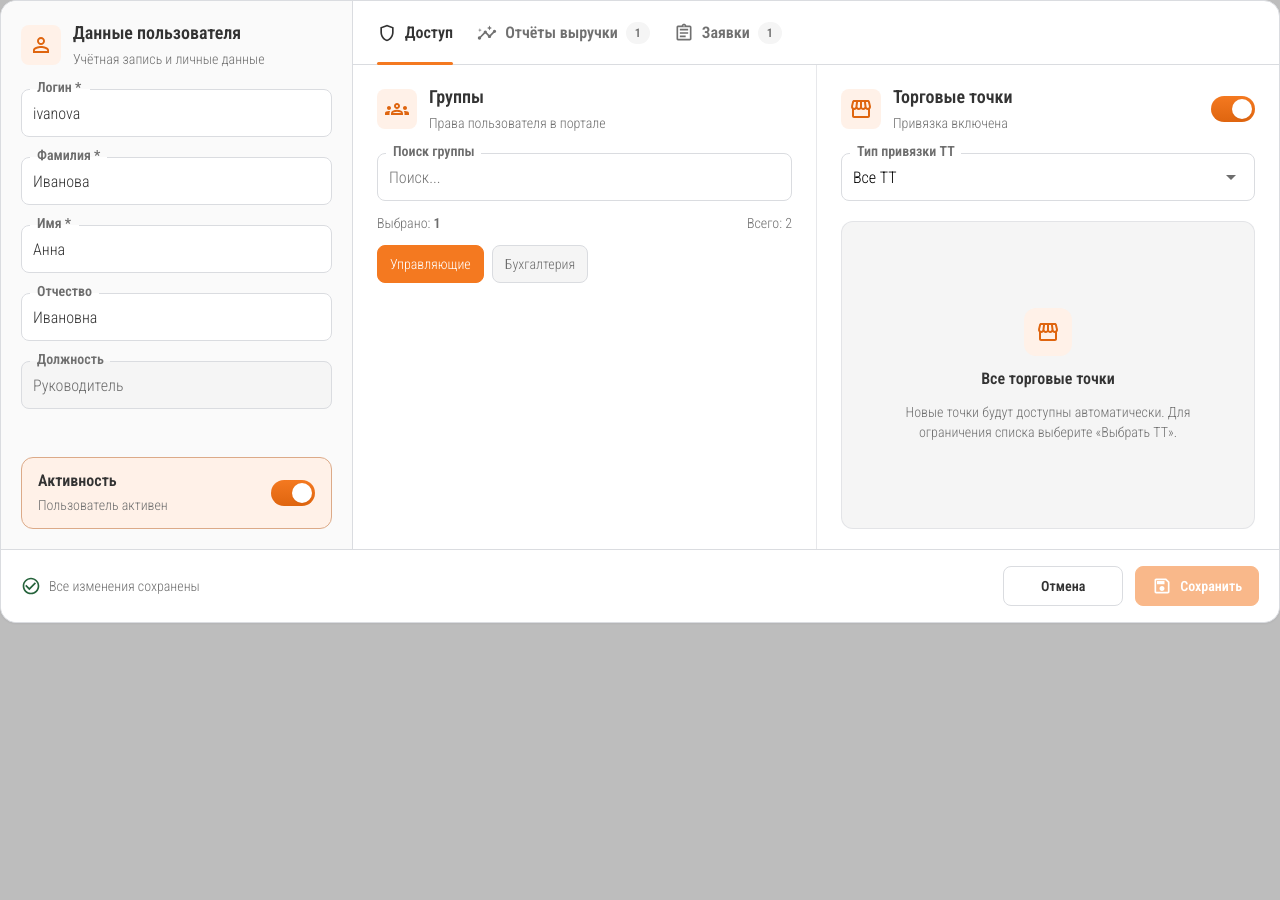
Test: UserEdit › closes a bid only after a successful response and retains unsaved form data
This screenshot has width=1280, height=900.
Expected: the field showing "ivanova" is shown, [21,89,332,137]
Replace the text in the field labelled "Имя *" with "Екатерина". click: (176, 249)
box: [21,225,332,273]
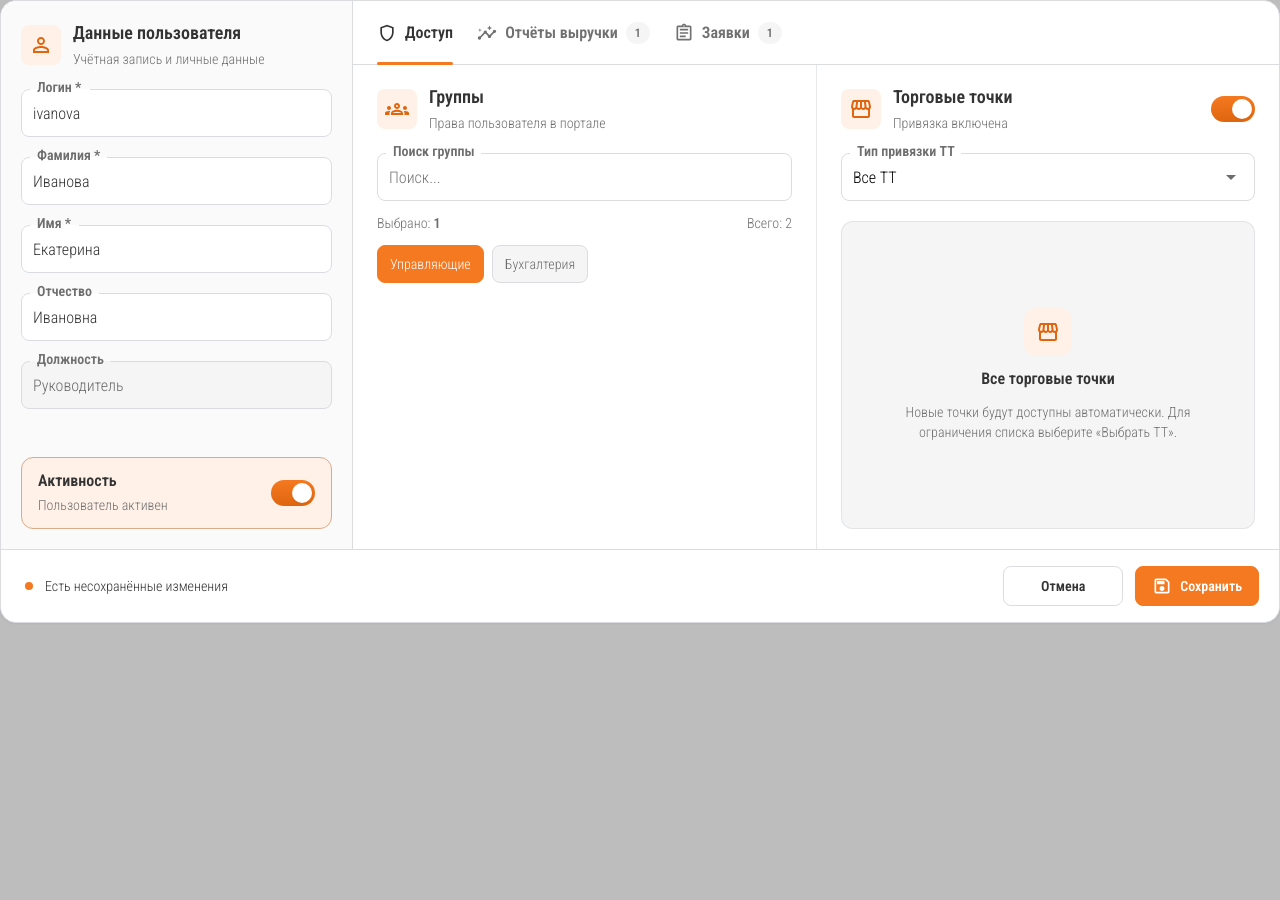
Click the tab "Заявки 1". click: (728, 32)
box: [674,1,782,64]
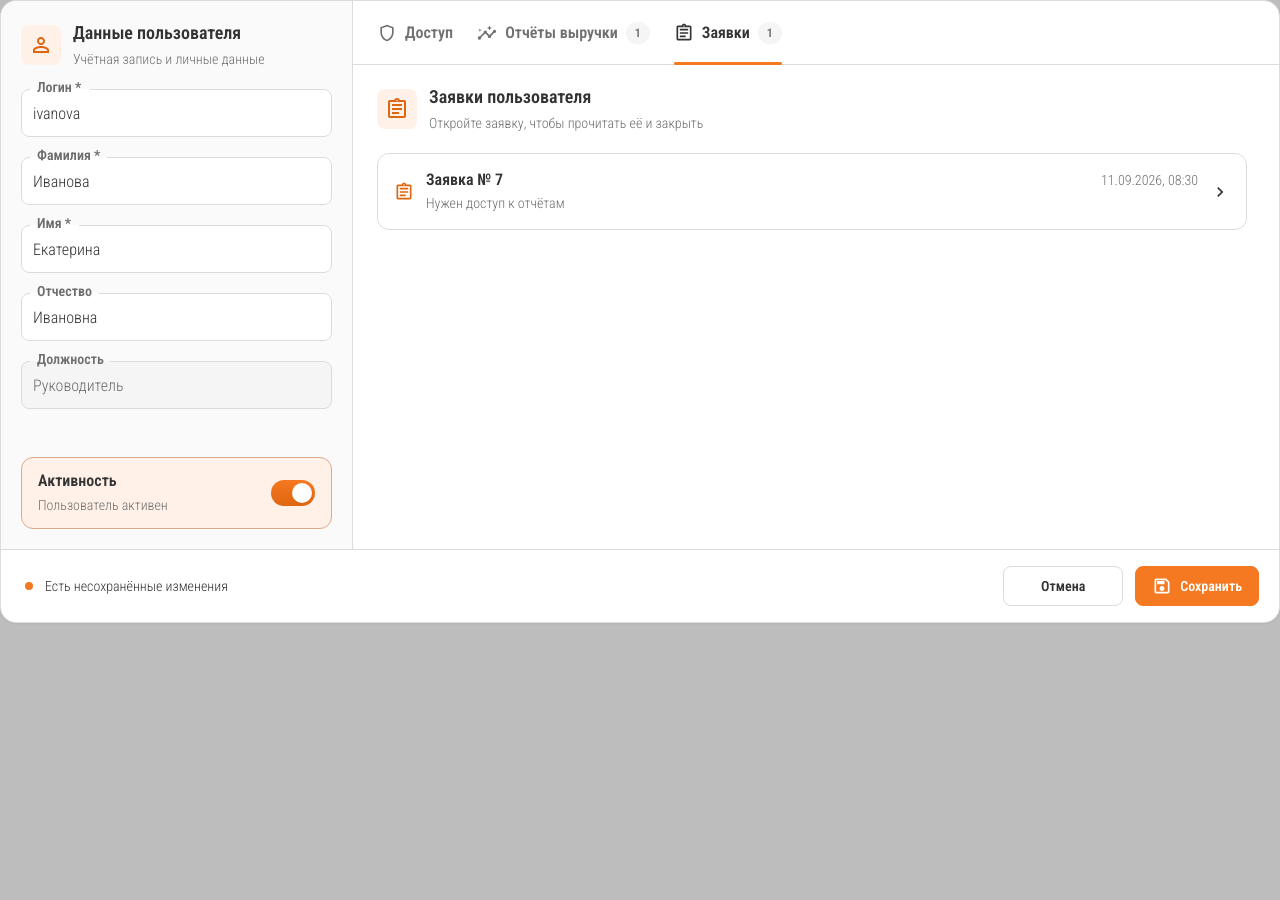
Click the button "Заявка № 7 11.09.2026, 08:30 Нужен доступ к отчётам". click: (460, 180)
box: [377,153,1247,230]
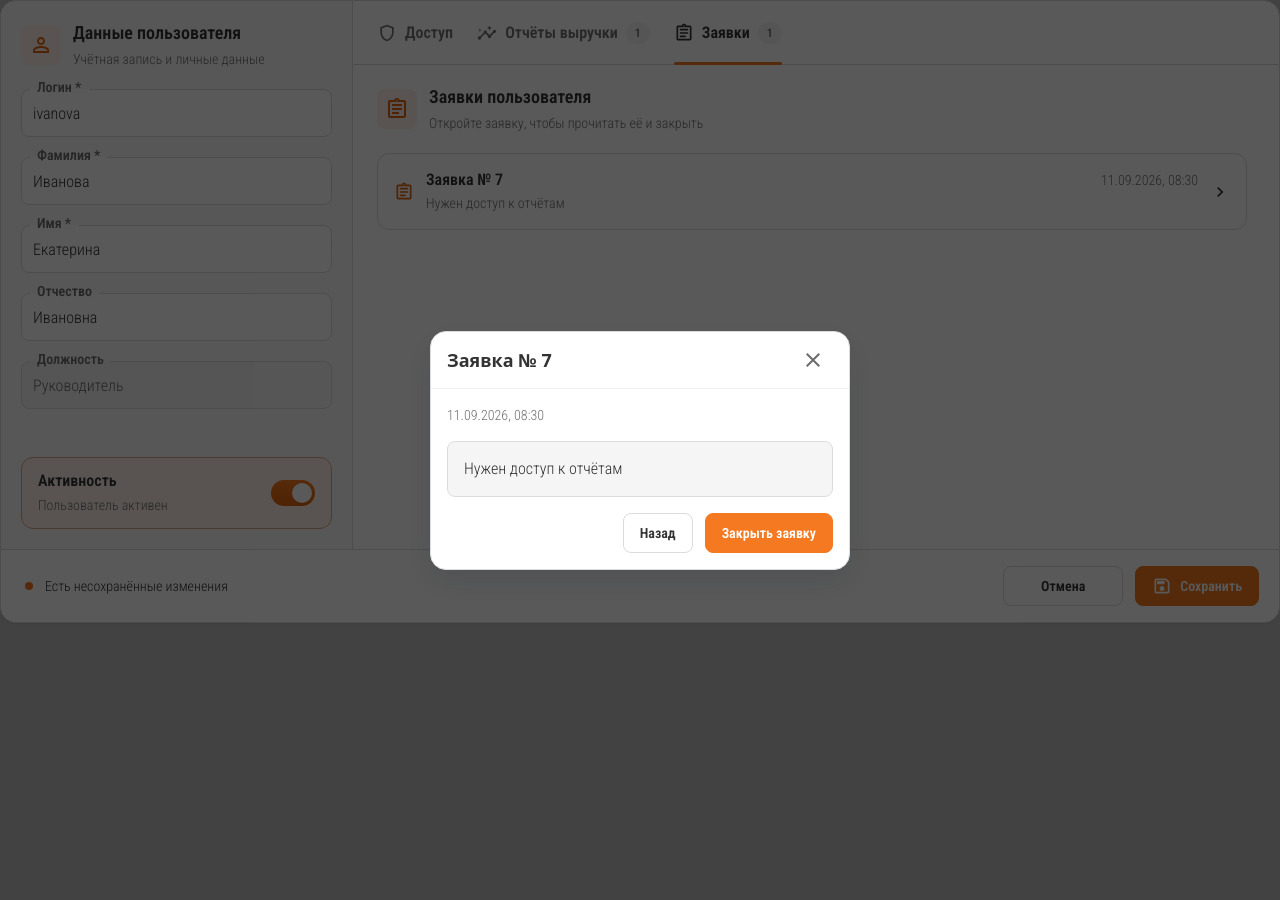
Result: the text "Нужен доступ к отчётам" is shown at [447,440,833,496]
Click the button "Закрыть заявку". click: (769, 532)
box: [705,512,833,552]
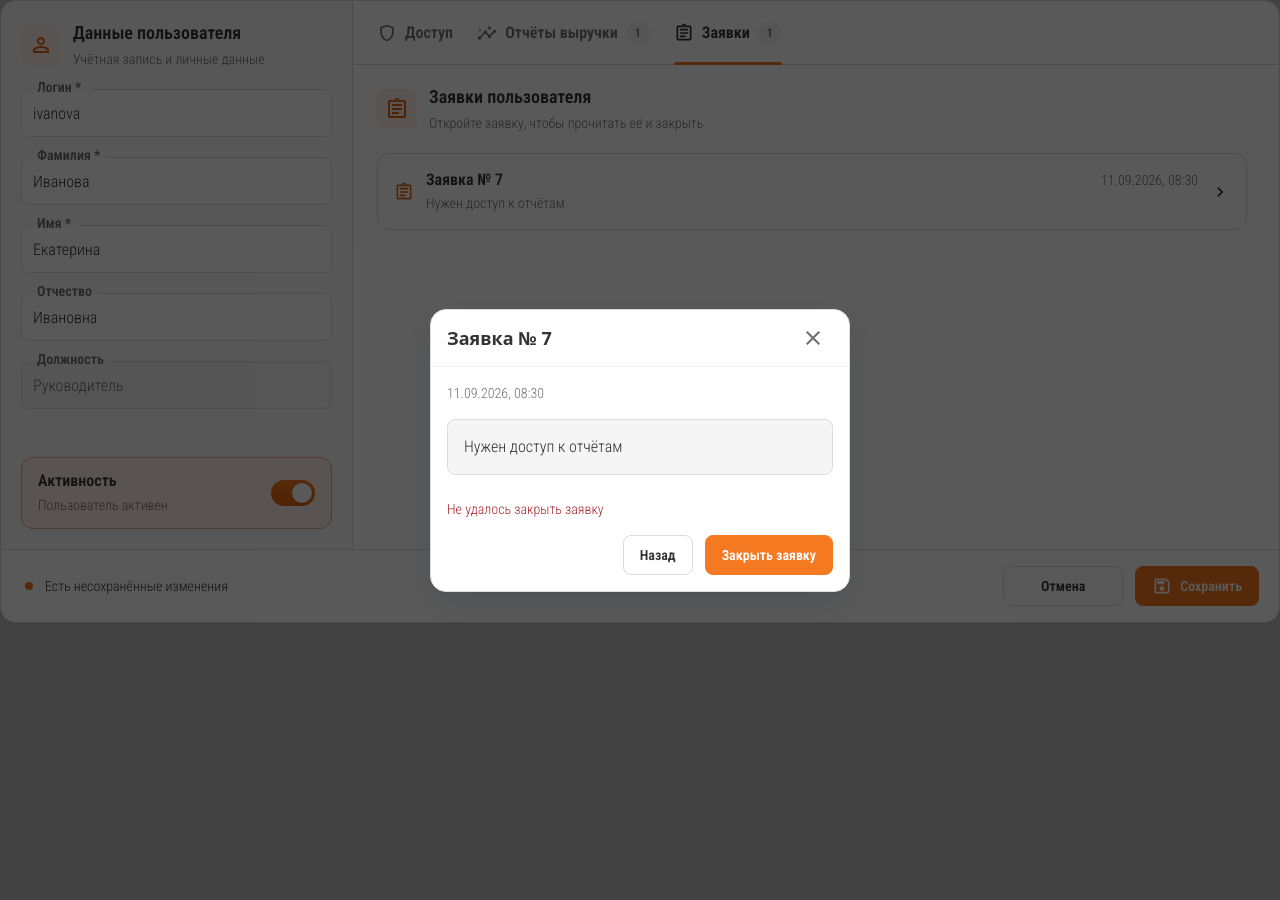
Result: the message reads "Не удалось закрыть заявку" at [447,500,604,516]
Click the button "Закрыть заявку". click: (769, 554)
box: [705,534,833,574]
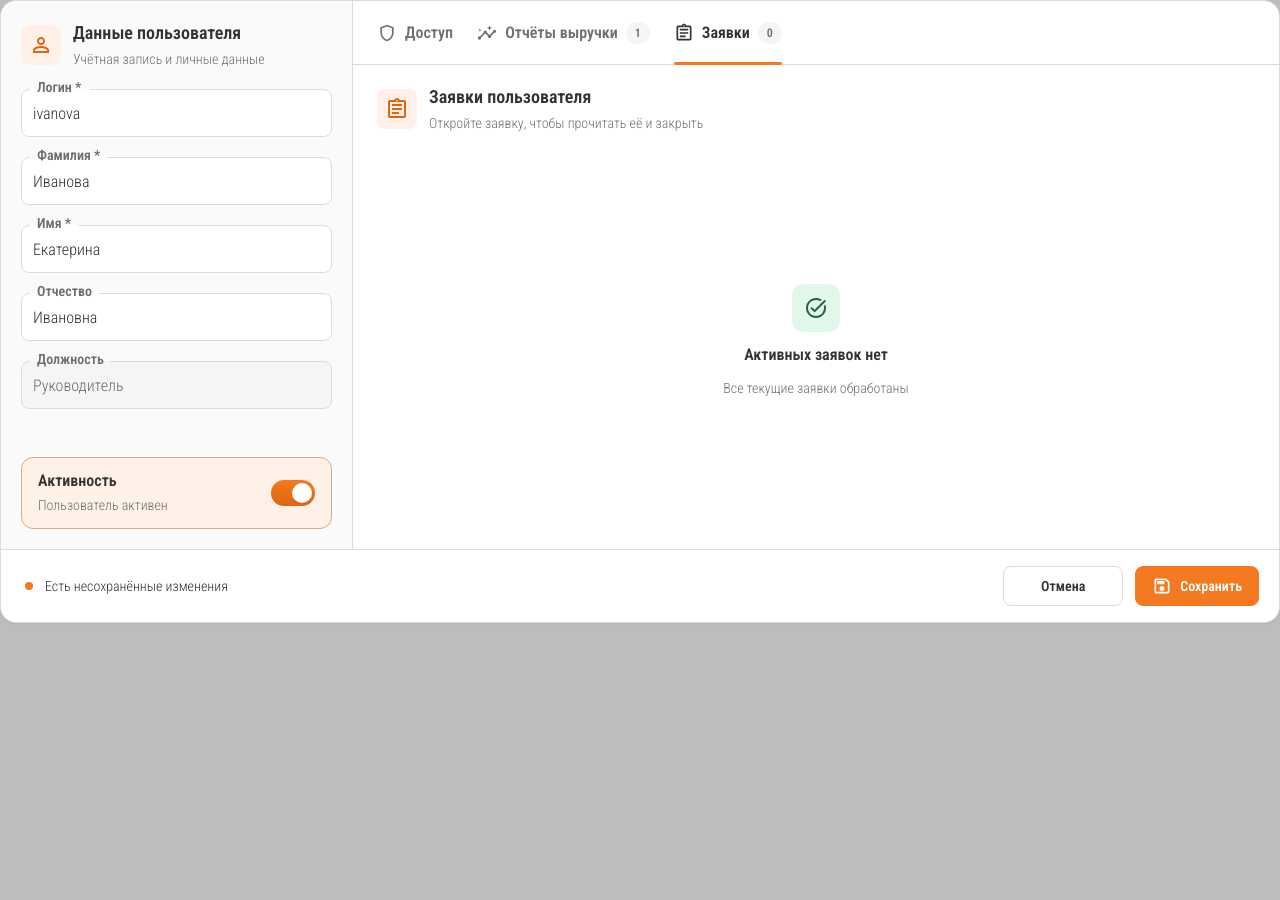
Result: the text "Есть несохранённые изменения" is shown at [45,576,228,596]
Result: the heading "Активных заявок нет" is shown at [744,344,888,366]
